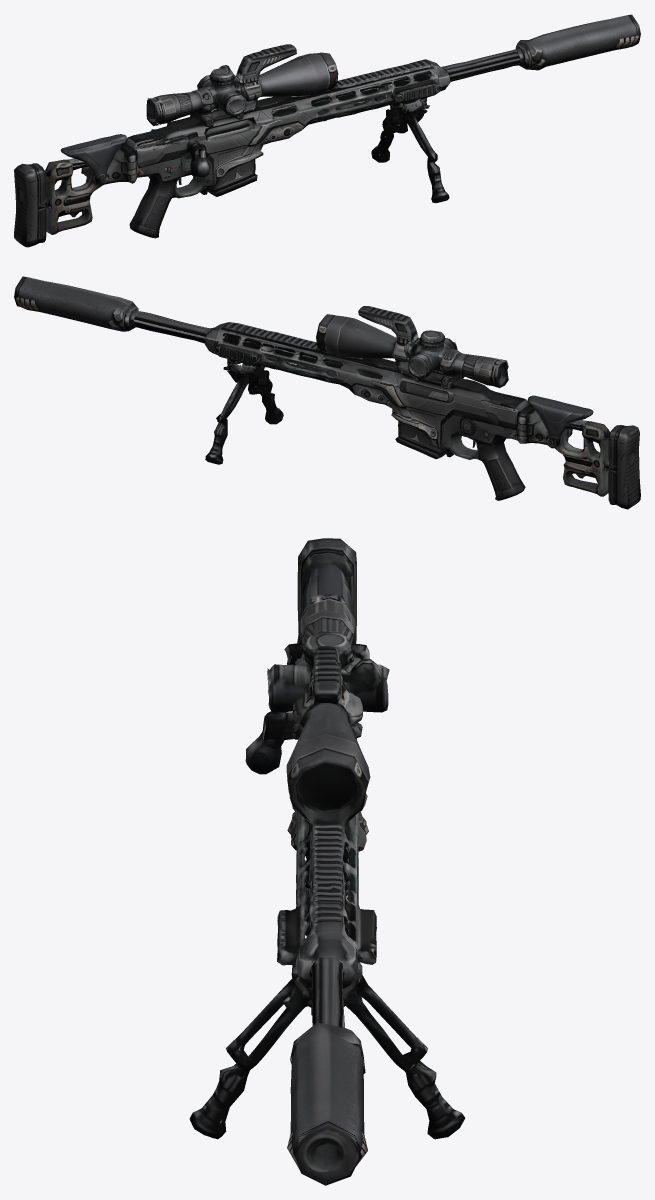
The model's file is tripo_convert_b6d25713-dde1-4dfb-b061-8d2f45caed65.fbx.
3 renders of one model, top to bottom at view 1: azimuth 30°, elevation 25°; view 2: azimuth 150°, elevation 25°; view 3: azimuth 270°, elevation 25°, orthographic. The views are drawn at different scales.
Parts seen in each view (by area): view 1: tripo_node_b6d25713; view 2: tripo_node_b6d25713; view 3: tripo_node_b6d25713.
Boxes of the visible parts, <box> form: tripo_node_b6d25713: <box>14,14,640,247</box>; tripo_node_b6d25713: <box>14,276,640,509</box>; tripo_node_b6d25713: <box>189,538,465,1185</box>.
Bounding box in the file's own units: 97.84 × 19.02 × 25.25.
1 material, 1 textured.
